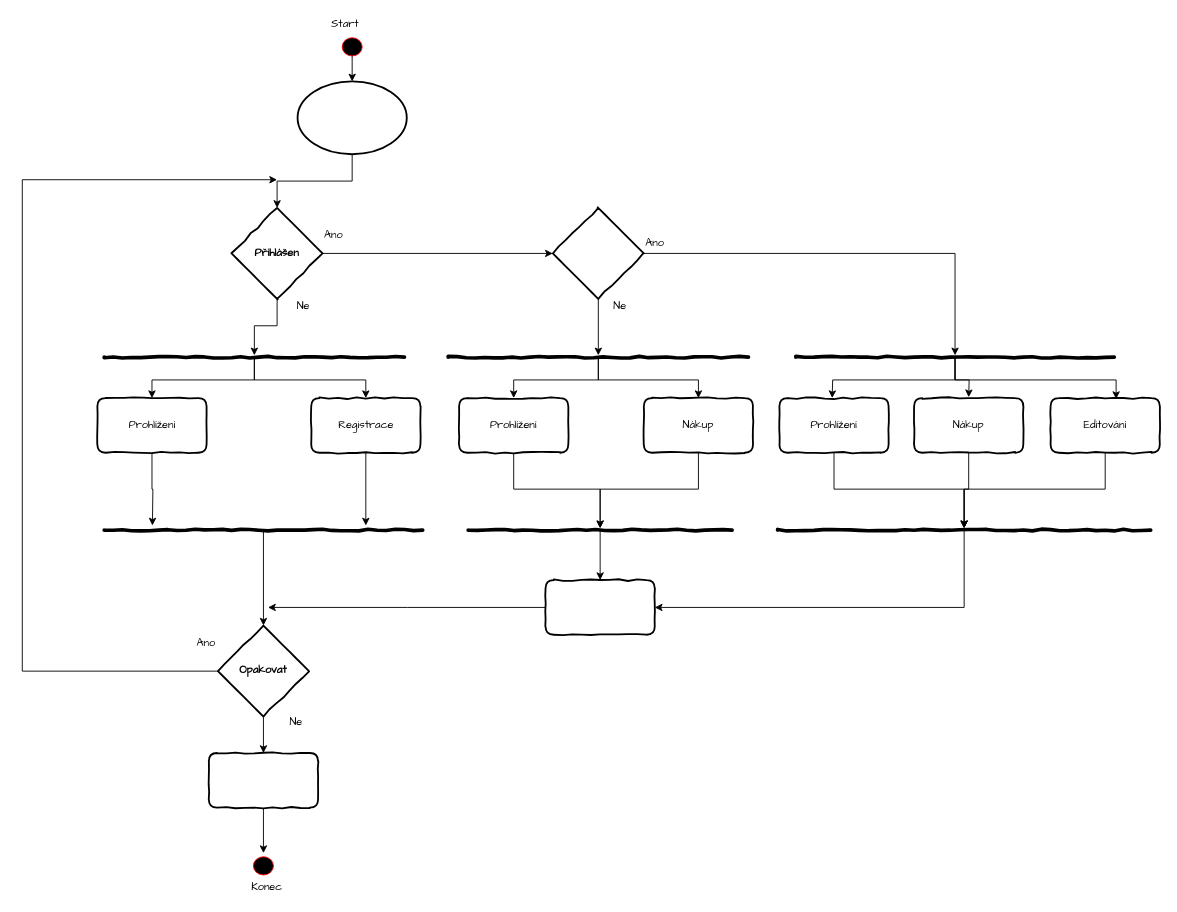
Image size: 1177x912. Some labels were removed from this diagram. The centre of each missing label's shape, as x and y in pixels:
"Administrátor" belongs at point (597, 253).
"Odchod z webu" belongs at point (262, 780).
"Odhlášení" belongs at point (599, 607).
"Vstup na web" belongs at point (351, 117).
